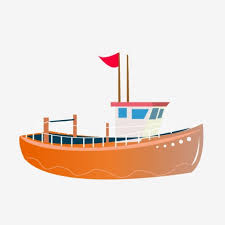tau_dansu: (19, 70, 211, 182)
